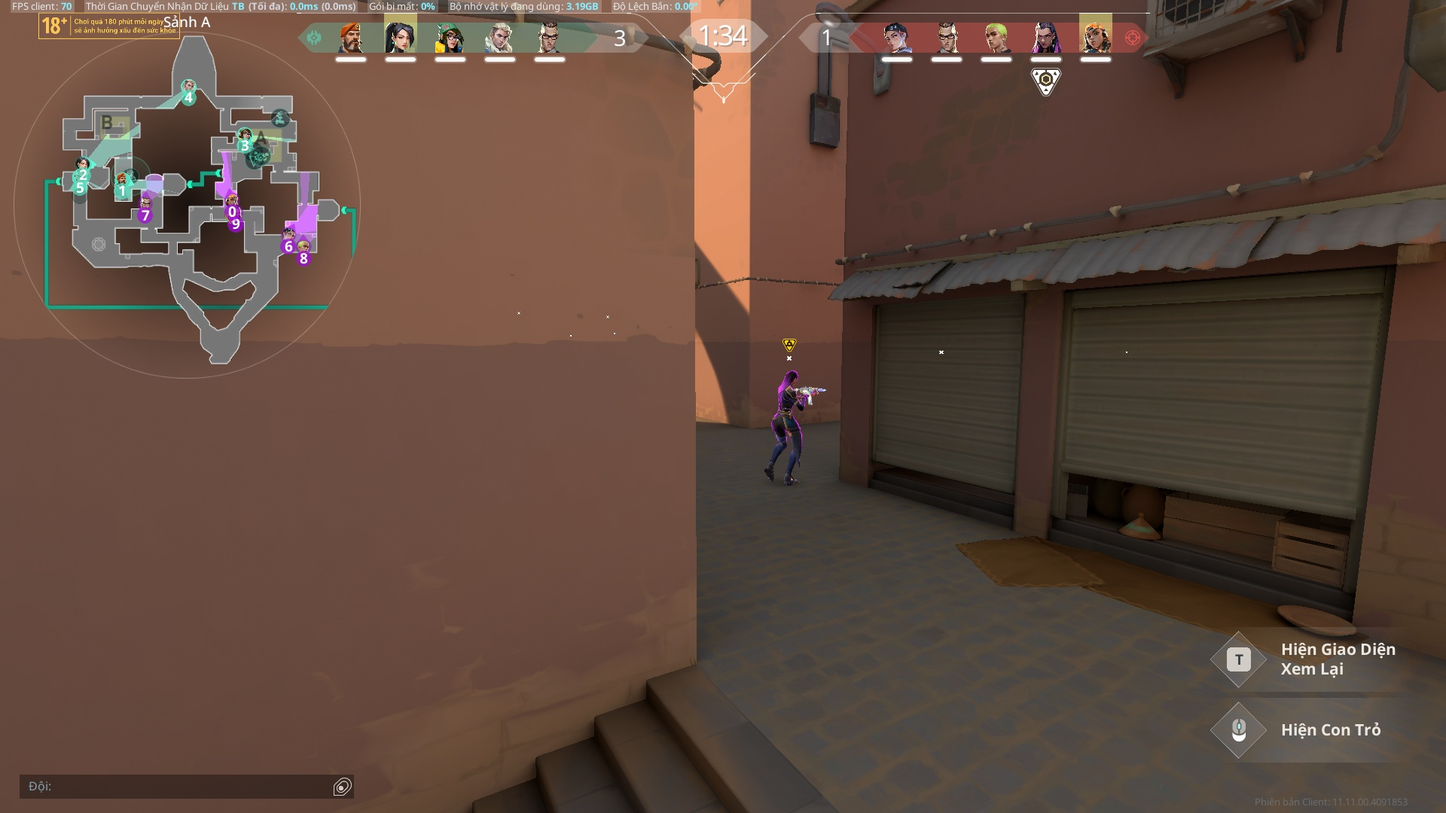body: (776, 382, 799, 413)
head: (783, 369, 800, 385)
